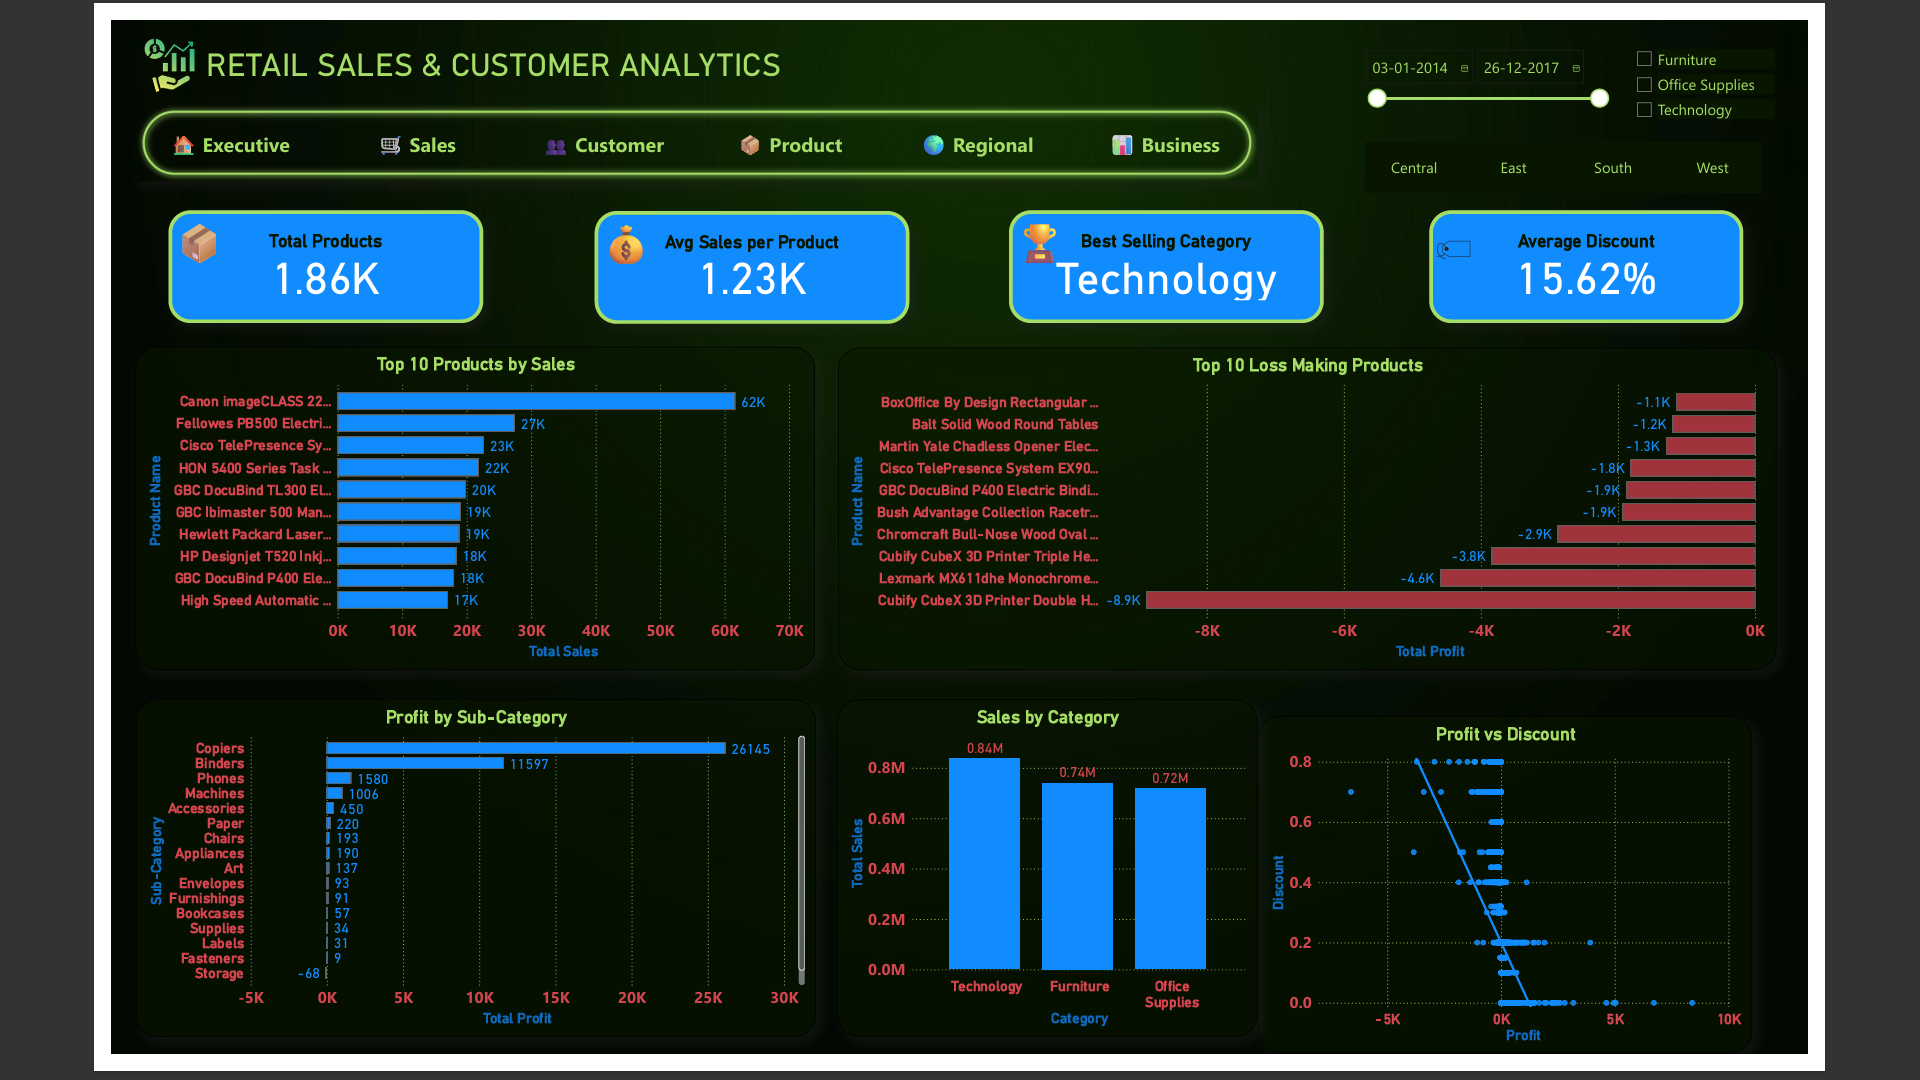

The dashboard page shown, as its layout file describes it:
{"tool":"powerbi","page":{"name":"Product Performance","canvas":[2300,1400],"ordinal":3},"visuals":[{"type":"group","id":"g1","title":"Group 2","box":[33.3,113.3,1523.3,103.3],"z":0},{"type":"actionButton","box":[33.3,113.3,1522.5,105],"z":0,"group":"g1"},{"type":"cardVisual","fields":{"Data":["Sample_ Superstore.Total Products"]},"box":[76.7,256.7,426.7,153.3],"z":0,"group":"g3"},{"type":"cardVisual","title":"fhnfbgfvcd","fields":{"Data":["Sample_ Superstore.Best Selling Category"]},"box":[1216.7,256.7,426.7,153.3],"z":0,"group":"g5"},{"type":"cardVisual","fields":{"Data":["Sample_ Superstore.Avg Sales per Product"]},"box":[655,257.5,426.7,153.3],"z":0,"group":"g4"},{"type":"actionButton","box":[33.3,117,254.7,101.3],"z":1000,"group":"g2"},{"type":"cardVisual","fields":{"Data":["Sample_ Superstore.Average Discount"]},"box":[1786.7,256.7,426.7,153.3],"z":1000},{"type":"textbox","box":[77.8,257.8,426.7,90],"z":1000,"group":"g3"},{"type":"textbox","box":[1217.8,257.8,426.7,90],"z":1000,"group":"g5"},{"type":"textbox","box":[656.1,258.6,426.7,90],"z":1000,"group":"g4"},{"type":"image","box":[32.5,23.3,90,75],"z":2000},{"type":"actionButton","box":[287.3,117,253.3,101.3],"z":2000,"group":"g2"},{"type":"actionButton","box":[541,117,252.5,101.3],"z":3000,"group":"g2"},{"type":"textbox","box":[1787.8,257.8,426.7,83.3],"z":3000},{"type":"group","id":"g2","title":"Group 1","box":[33.3,117,1522.5,101.3],"z":3004,"group":"g1"},{"type":"textbox","box":[122.5,30,1065,75],"z":4000},{"type":"actionButton","box":[793.4,117,252.5,101.3],"z":4000,"group":"g2"},{"type":"slicer","fields":{"Values":["Sample_ Superstore.Order Date"]},"box":[1687.5,30,352.5,97.5],"z":5000},{"type":"actionButton","box":[1047.1,117,253.3,101.3],"z":5000,"group":"g2"},{"type":"actionButton","box":[1301.1,117,254.7,101.3],"z":6000,"group":"g2"},{"type":"slicer","fields":{"Values":["Sample_ Superstore.Region"]},"box":[1674,158,588,82],"z":6000},{"type":"slicer","fields":{"Values":["Sample_ Superstore.Category"]},"box":[2056,30,206,116],"z":7000},{"type":"group","id":"g3","title":"Group 3","box":[76.7,256.7,427.8,153.3],"z":8000},{"type":"group","id":"g4","title":"Group 3","box":[655,257.5,425,152.5],"z":9000},{"type":"group","id":"g5","title":"Group 3","box":[1216.7,256.7,427.8,153.3],"z":10000},{"type":"scatterChart","title":"Profit vs Discount","fields":{"X":["Sample_ Superstore.Profit"],"Y":["Sample_ Superstore.Discount"]},"box":[1555,942.5,670,457.5],"z":11000},{"type":"clusteredBarChart","title":"Profit by Sub-Category","fields":{"Y":["Sample_ Superstore.Total Profit"],"Category":["Sample_ Superstore.Sub-Category"]},"box":[32.5,920,922.5,457.5],"z":12000},{"type":"barChart","title":"Top 10 Loss Making Products","fields":{"Y":["Sample_ Superstore.Total Profit"],"Category":["Sample_ Superstore.Product Name"]},"box":[985,442.5,1272.5,437.5],"z":13000},{"type":"clusteredColumnChart","title":"Sales by Category","fields":{"Y":["Sample_ Superstore.Total Sales"],"Category":["Sample_ Superstore.Category"]},"box":[984,920,570,458],"z":14000},{"type":"barChart","title":"Top 10 Products by Sales","fields":{"Category":["Sample_ Superstore.Product Name"],"Y":["Sample_ Superstore.Total Sales"]},"box":[32,442,922,438],"z":15000}]}

Visuals, with their boxes on the page's 2300x1400 design canvas (x1, y1, x2, y2). These are canvas units, not pixel positions in the 1920x1080 screenshot, which may show the page scaled, cropped or inside an application window:
"Group 2" group: x1=33 y1=113 x2=1557 y2=217
actionButton: x1=33 y1=113 x2=1556 y2=218
cardVisual - Sample_ Superstore.Total Products: x1=77 y1=257 x2=503 y2=410
"fhnfbgfvcd" cardVisual: x1=1217 y1=257 x2=1643 y2=410
cardVisual - Sample_ Superstore.Avg Sales per Product: x1=655 y1=258 x2=1082 y2=411
actionButton: x1=33 y1=117 x2=288 y2=218
cardVisual - Sample_ Superstore.Average Discount: x1=1787 y1=257 x2=2213 y2=410
textbox: x1=78 y1=258 x2=504 y2=348
textbox: x1=1218 y1=258 x2=1644 y2=348
textbox: x1=656 y1=259 x2=1083 y2=349
image: x1=32 y1=23 x2=122 y2=98
actionButton: x1=287 y1=117 x2=541 y2=218
actionButton: x1=541 y1=117 x2=794 y2=218
textbox: x1=1788 y1=258 x2=2214 y2=341
"Group 1" group: x1=33 y1=117 x2=1556 y2=218
textbox: x1=122 y1=30 x2=1188 y2=105
actionButton: x1=793 y1=117 x2=1046 y2=218
slicer - Sample_ Superstore.Order Date: x1=1688 y1=30 x2=2040 y2=128
actionButton: x1=1047 y1=117 x2=1300 y2=218
actionButton: x1=1301 y1=117 x2=1556 y2=218
slicer - Sample_ Superstore.Region: x1=1674 y1=158 x2=2262 y2=240
slicer - Sample_ Superstore.Category: x1=2056 y1=30 x2=2262 y2=146
"Group 3" group: x1=77 y1=257 x2=504 y2=410
"Group 3" group: x1=655 y1=258 x2=1080 y2=410
"Group 3" group: x1=1217 y1=257 x2=1644 y2=410
"Profit vs Discount" scatterChart: x1=1555 y1=942 x2=2225 y2=1400
"Profit by Sub-Category" clusteredBarChart: x1=32 y1=920 x2=955 y2=1378
"Top 10 Loss Making Products" barChart: x1=985 y1=442 x2=2258 y2=880
"Sales by Category" clusteredColumnChart: x1=984 y1=920 x2=1554 y2=1378
"Top 10 Products by Sales" barChart: x1=32 y1=442 x2=954 y2=880
